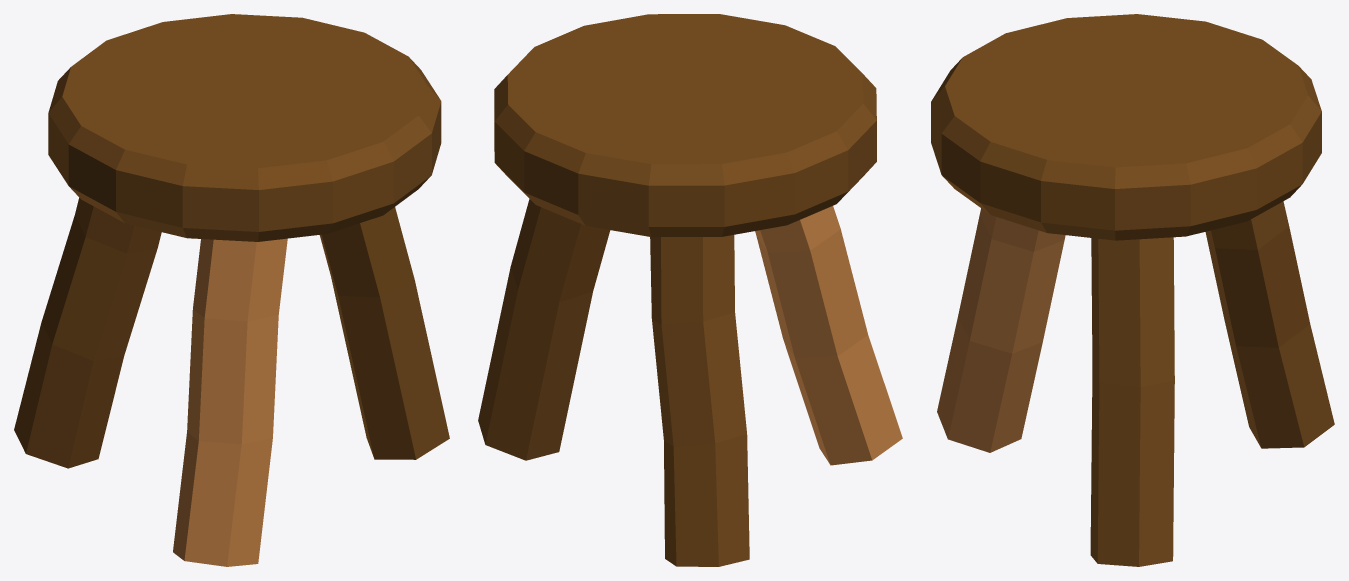
The model's file is Beach_House_Stool_03.fbx.
3 renders of one model, left to right at view 1: azimuth 30°, elevation 25°; view 2: azimuth 150°, elevation 25°; view 3: azimuth 270°, elevation 25°, orthographic.
Parts seen in each view (by area): view 1: Beach_House_Stool_03; view 2: Beach_House_Stool_03; view 3: Beach_House_Stool_03.
Boxes of the visible parts, x1,y1,x2,y2 form: Beach_House_Stool_03: [14, 14, 449, 566]; Beach_House_Stool_03: [478, 14, 902, 566]; Beach_House_Stool_03: [931, 14, 1334, 566].
Bounding box in the file's own units: 0.9788 × 0.9984 × 0.9214.
